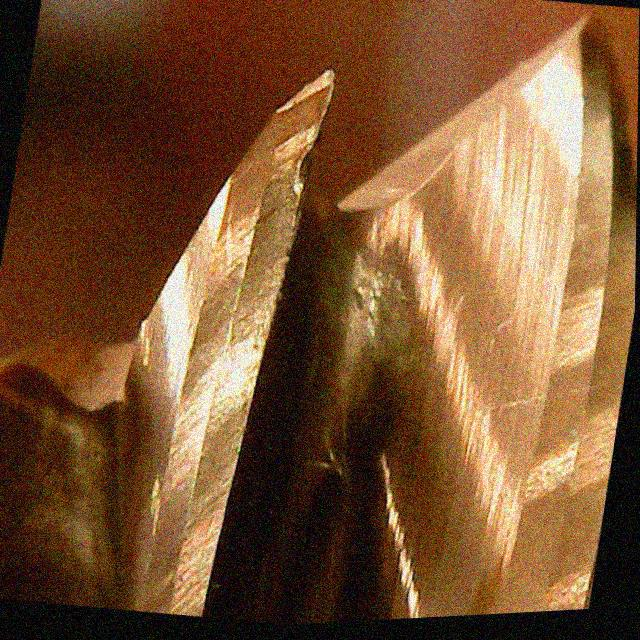Tool-wear-class-1: (136, 44, 353, 436)
